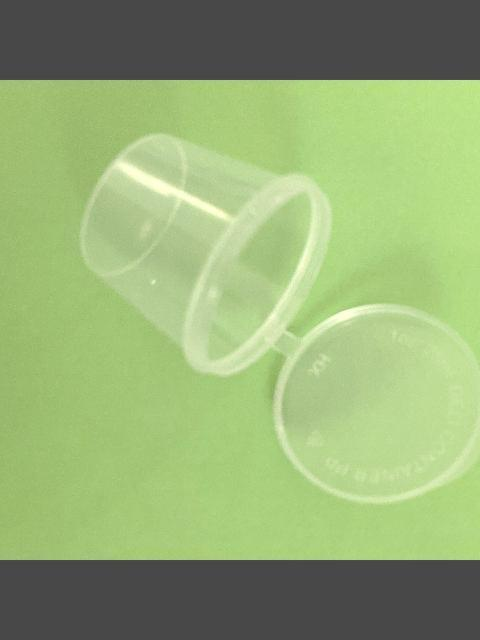plasticcontainer: (78, 132, 480, 503)
